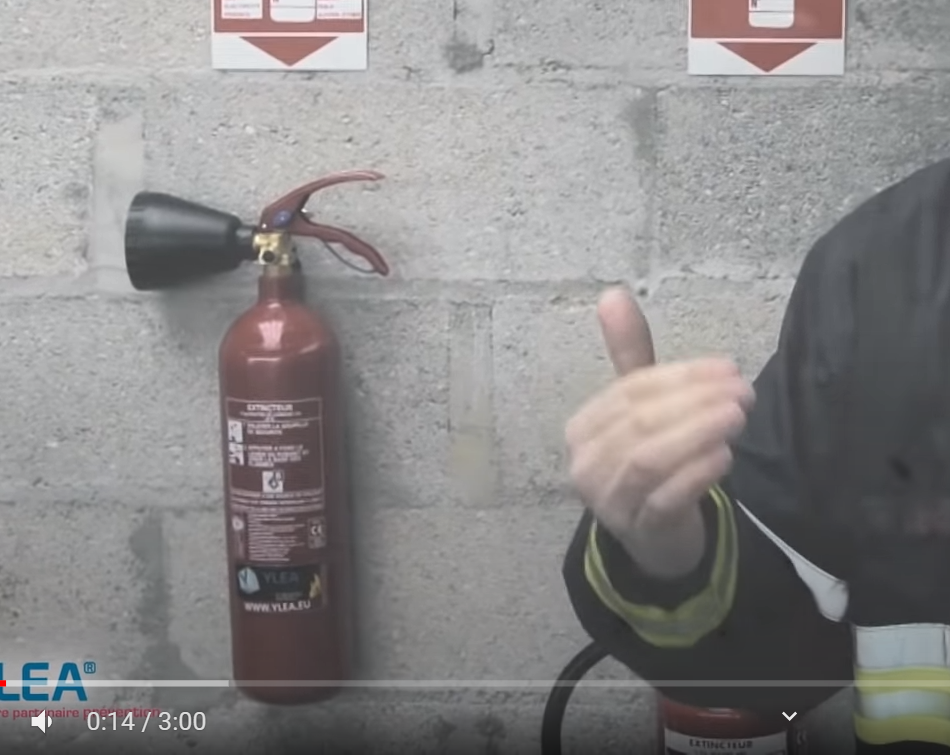fire_extinguisher: (123, 168, 391, 706)
